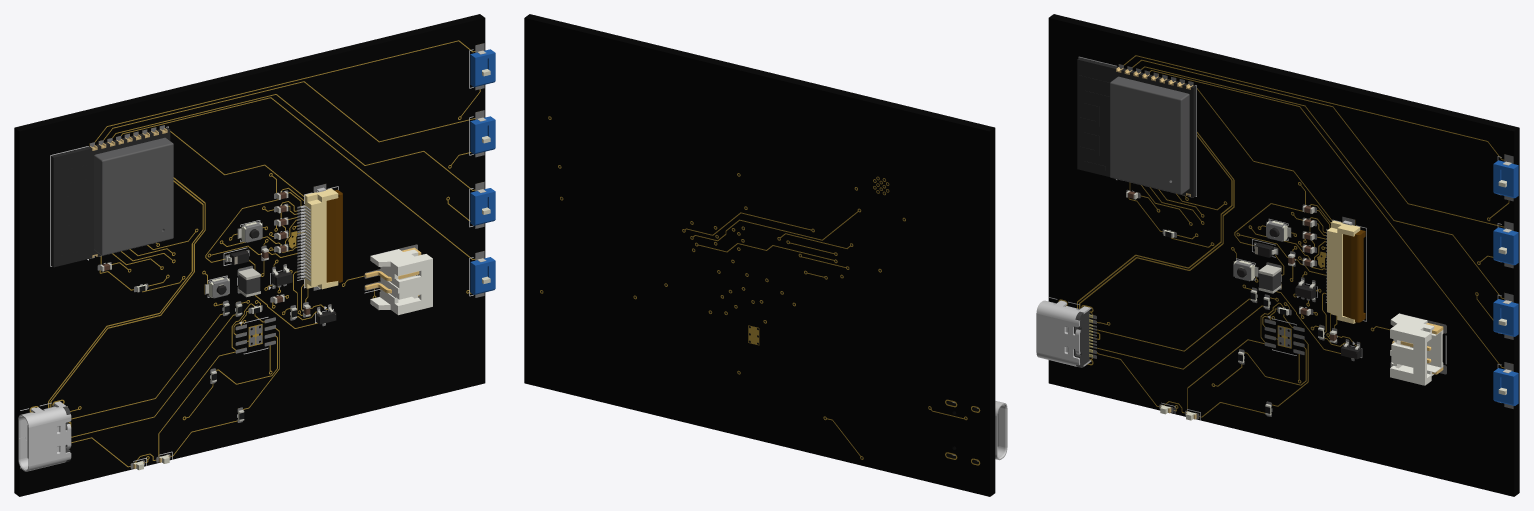
File: PriorityDisplay.glb
3 renders of one model, left to right at view 1: azimuth 30°, elevation 25°; view 2: azimuth 150°, elevation 25°; view 3: azimuth 330°, elevation 25°, orthographic.
Visible parts, largest first — view 1: SHAPE_1842, SHAPE_1844, SHAPE_97, SHAPE_1843, SHAPE_182, SHAPE_1845, SHAPE_1469, SHAPE_660, SHAPE_1012, SHAPE_30, SHAPE_1849, SHAPE_678 (+3 smaller); view 2: SHAPE_1842, SHAPE_1843, SHAPE_1847; view 3: SHAPE_1842, SHAPE_1844, SHAPE_97, SHAPE_1843, SHAPE_182, SHAPE_1845, SHAPE_1469, SHAPE_1012, SHAPE_660, SHAPE_30, SHAPE_1849, SHAPE_94 (+4 smaller).
Boxes of the visible parts, box(x1,y1,x2,y2) form: SHAPE_1842: box(19, 18, 485, 496); SHAPE_1844: box(29, 40, 480, 467); SHAPE_97: box(103, 145, 172, 254); SHAPE_1843: box(14, 14, 484, 496); SHAPE_182: box(53, 129, 170, 267); SHAPE_1845: box(67, 43, 484, 468); SHAPE_1469: box(28, 417, 71, 466); SHAPE_660: box(311, 193, 338, 289); SHAPE_1012: box(398, 258, 432, 315); SHAPE_30: box(56, 164, 89, 261); SHAPE_1849: box(20, 49, 473, 468); SHAPE_678: box(326, 198, 335, 282); SHAPE_1842: box(524, 18, 989, 496); SHAPE_1843: box(525, 14, 995, 496); SHAPE_1847: box(540, 116, 980, 465); SHAPE_1842: box(1048, 18, 1514, 496); SHAPE_1844: box(1058, 55, 1509, 417); SHAPE_97: box(1110, 84, 1180, 193); SHAPE_1843: box(1049, 14, 1519, 496); SHAPE_182: box(1077, 59, 1193, 197); SHAPE_1845: box(1089, 64, 1513, 419); SHAPE_1469: box(1036, 313, 1078, 362); SHAPE_1012: box(1390, 329, 1424, 385); SHAPE_660: box(1327, 228, 1353, 323); SHAPE_30: box(1079, 75, 1109, 170); SHAPE_1849: box(1048, 56, 1501, 420); SHAPE_94: box(1182, 95, 1189, 193).
Size of what is drawn, in the model's own units: 0.0811 by 0.06 by 0.0071.
